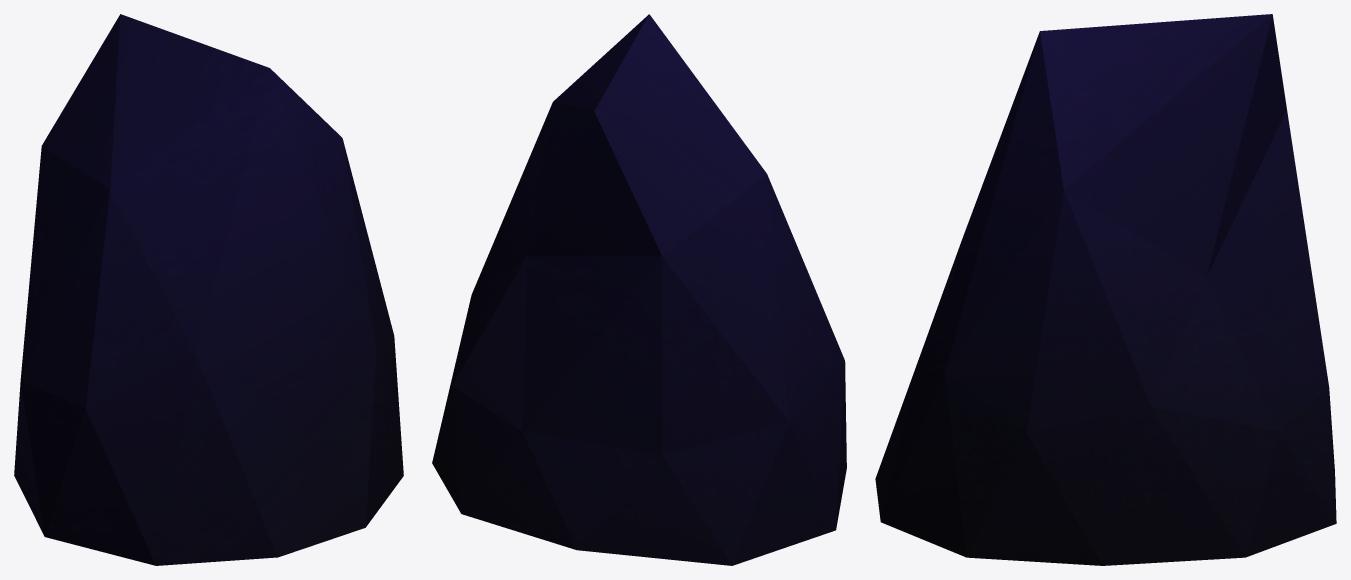
Rendered from SM_Rock04_Var2.fbx.
3 renders of one model, left to right at view 1: azimuth 30°, elevation 25°; view 2: azimuth 150°, elevation 25°; view 3: azimuth 270°, elevation 25°, orthographic. The views are drawn at different scales.
Visible parts, largest first — view 1: BigRock01.002; view 2: BigRock01.002; view 3: BigRock01.002.
Boxes of the visible parts, left/top/right/bottom form: BigRock01.002: left=14, top=14, right=403, bottom=565; BigRock01.002: left=432, top=14, right=846, bottom=565; BigRock01.002: left=875, top=14, right=1336, bottom=565.
Size of the model in its own units: 664 by 809 by 677.
